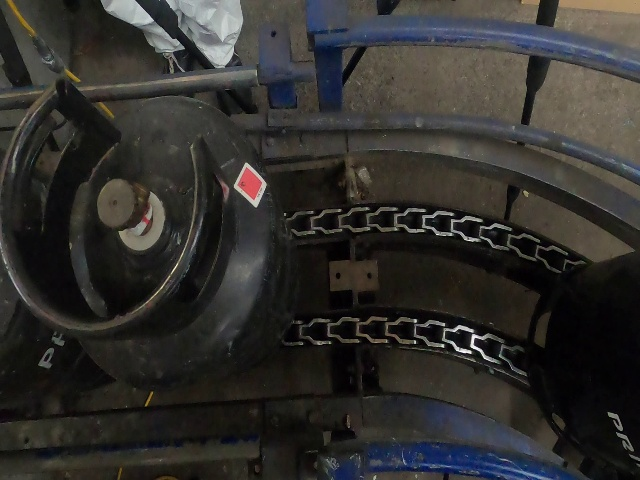gas_bottle: (73, 48, 633, 480)
